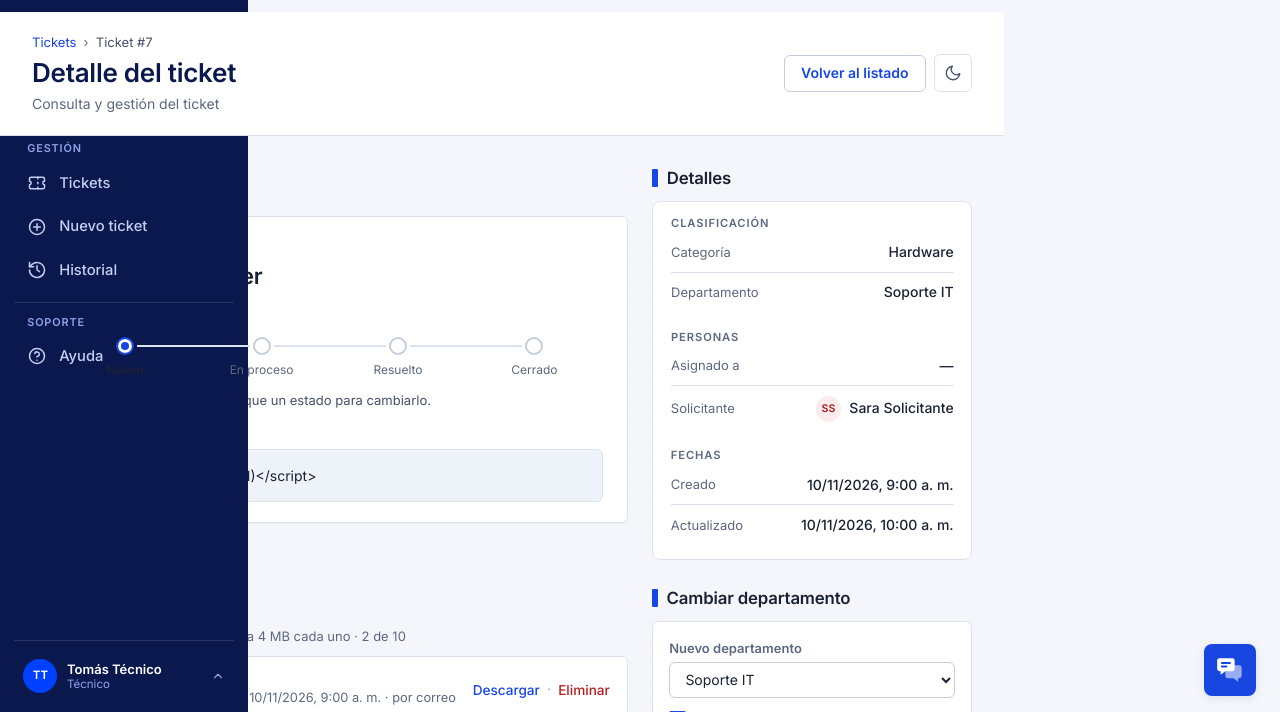
Test: Detalle del ticket (/tickets/:id) › recorrido de estados › 409 muestra el motivo del servidor
This screenshot has width=1280, height=712.
(page scrolled)
Expected: the heading "Impresora sin tóner" is shown, [57,262,262,289]
Click the button with aria-label "Pasar el ticket a «En proceso»". click: (262, 360)
box: [193,337,330,383]
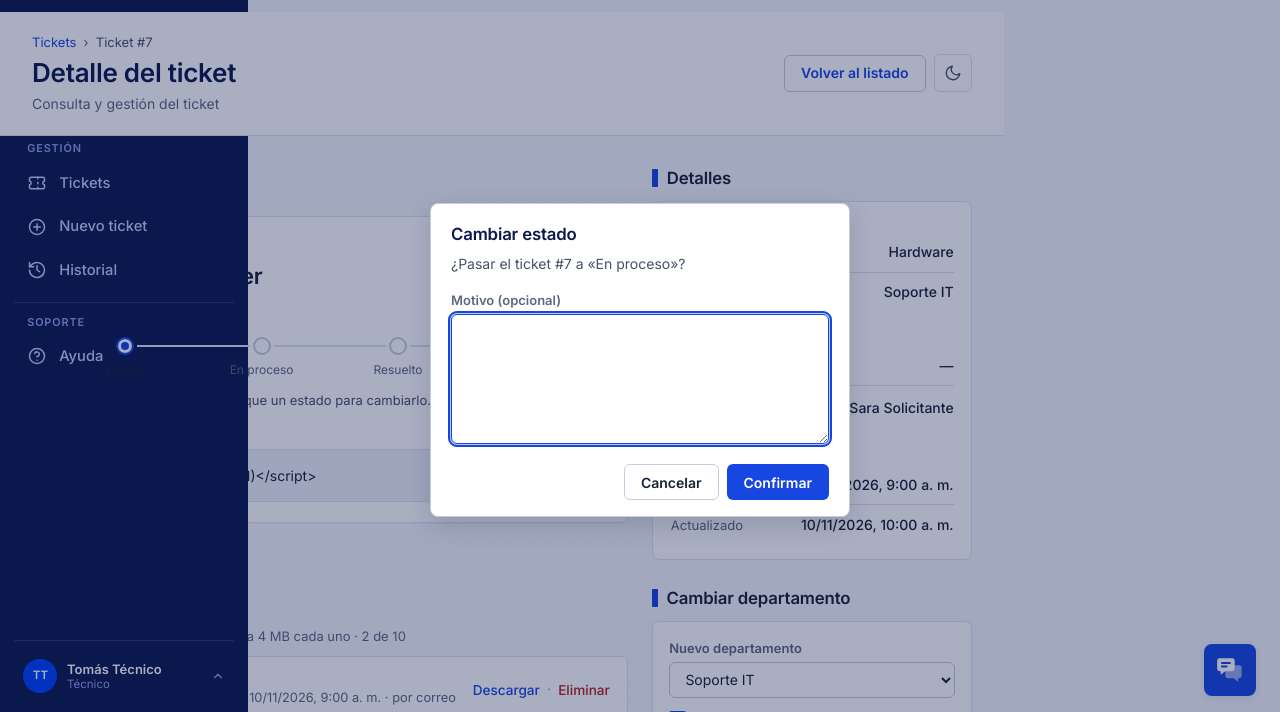
Click the button "Confirmar". click: (778, 482)
box: [726,464,829,500]
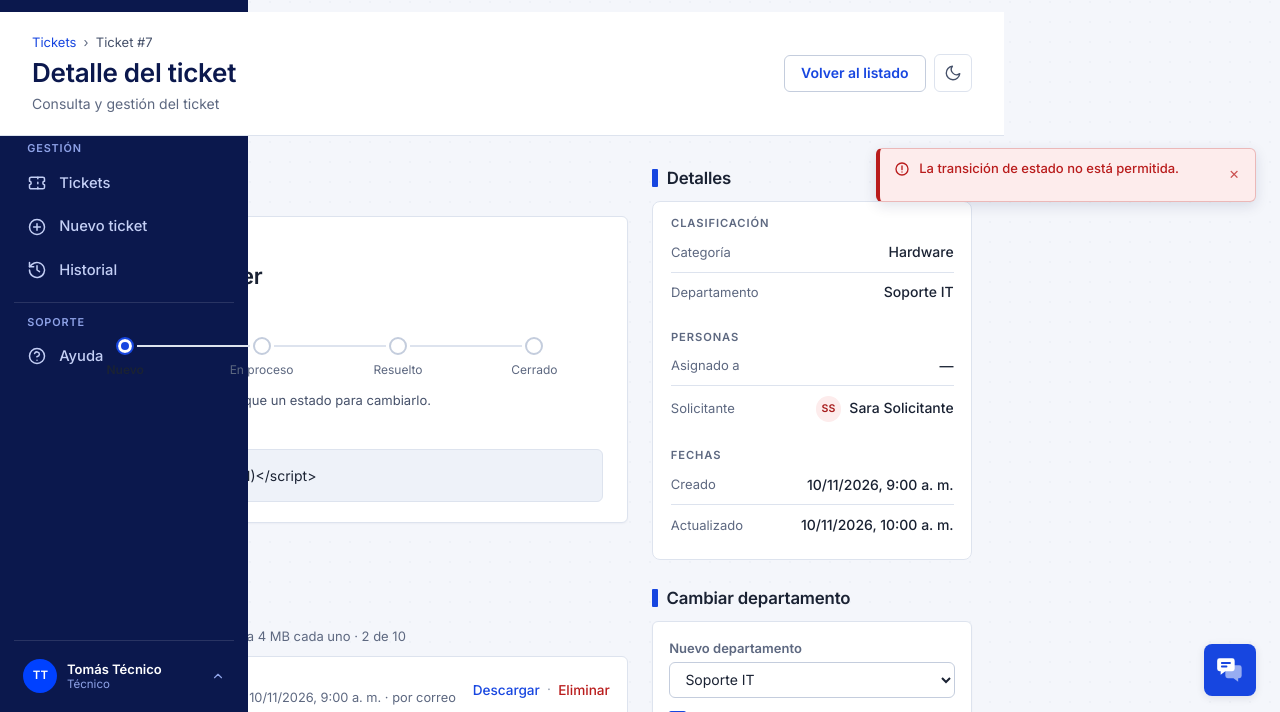
Now the message shows "La transición de estado no está permitida.", box [919,160,1179,176]
